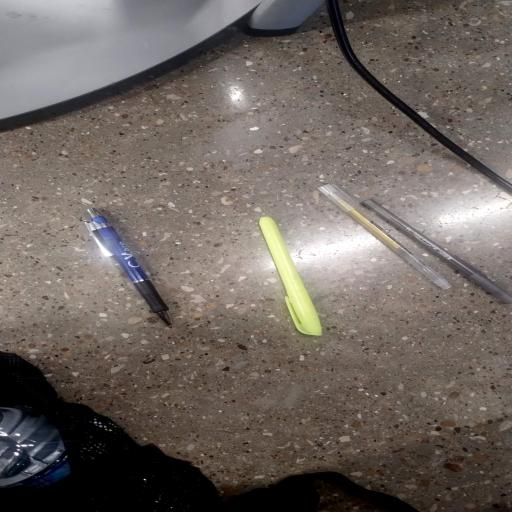pen: (362, 200, 511, 303), (319, 184, 450, 289), (85, 209, 172, 325), (85, 209, 172, 324), (259, 216, 322, 336)
